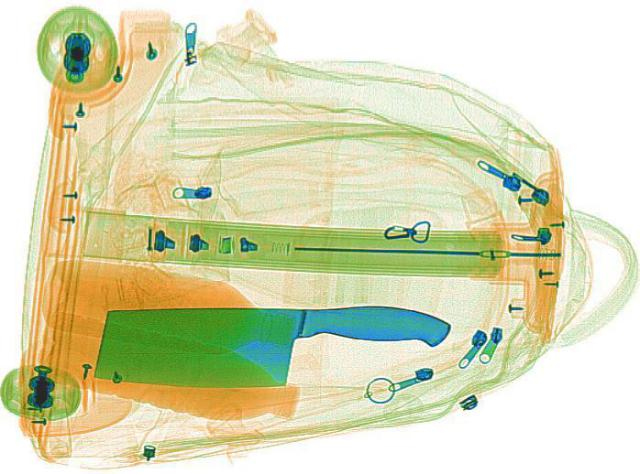Knife: (82, 294, 454, 393)
